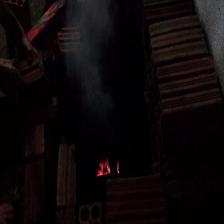fire: (98, 160, 120, 175)
smoke: (70, 43, 109, 103), (79, 0, 107, 33)
